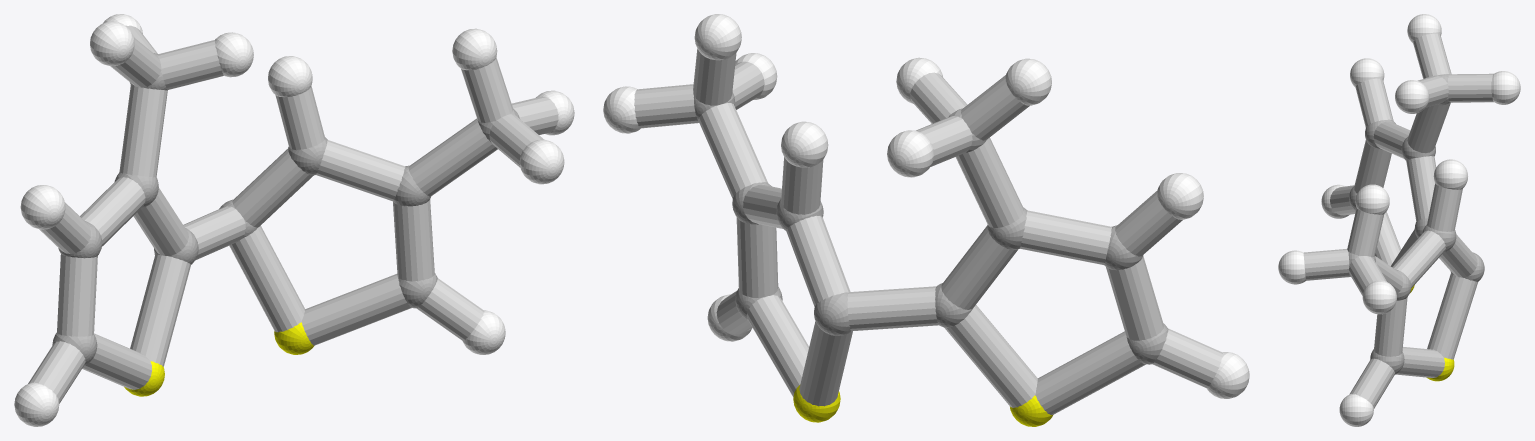
File: Methylthiophene_Phi_60_Theta_190_Methylthiophene.glb
The picture shows the model from 3 angles, left to right: view 1: azimuth 30°, elevation 25°; view 2: azimuth 150°, elevation 25°; view 3: azimuth 270°, elevation 25°; orthographic projection. The views are drawn at different scales.
Visible parts, largest first — view 1: grp7965, grp3621, grp1, grp7241; view 2: grp7965, grp3621, grp1, grp7241; view 3: grp7965, grp3621, grp1, grp7241.
Part boxes in pixels (x1,y1,x2,y2): grp7965: (28, 25, 558, 403); grp3621: (14, 14, 574, 426); grp1: (52, 53, 519, 365); grp7241: (124, 322, 314, 396); grp7965: (634, 49, 1223, 414); grp3621: (603, 14, 1249, 398); grp1: (693, 92, 1168, 364); grp7241: (793, 385, 1052, 426); grp7965: (1303, 33, 1493, 408); grp3621: (1278, 14, 1520, 426); grp1: (1348, 74, 1484, 374); grp7241: (1410, 285, 1454, 381).
Bounding box in the file's own units: 8.95 × 5.63 × 4.23.
